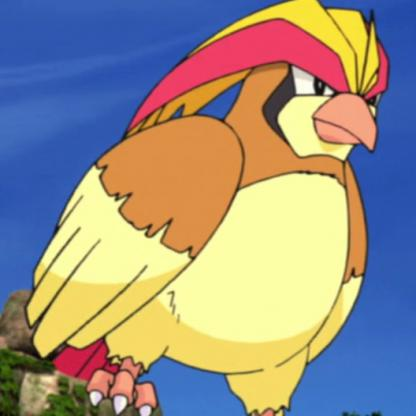Pidgeot: (21, 1, 390, 416)
